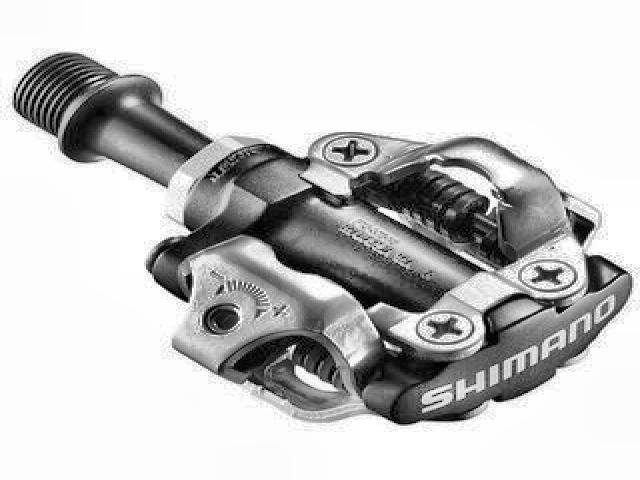pedal: (11, 46, 635, 426)
